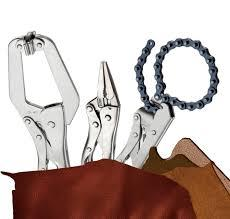pliers: (6, 29, 80, 169), (81, 59, 120, 162)
